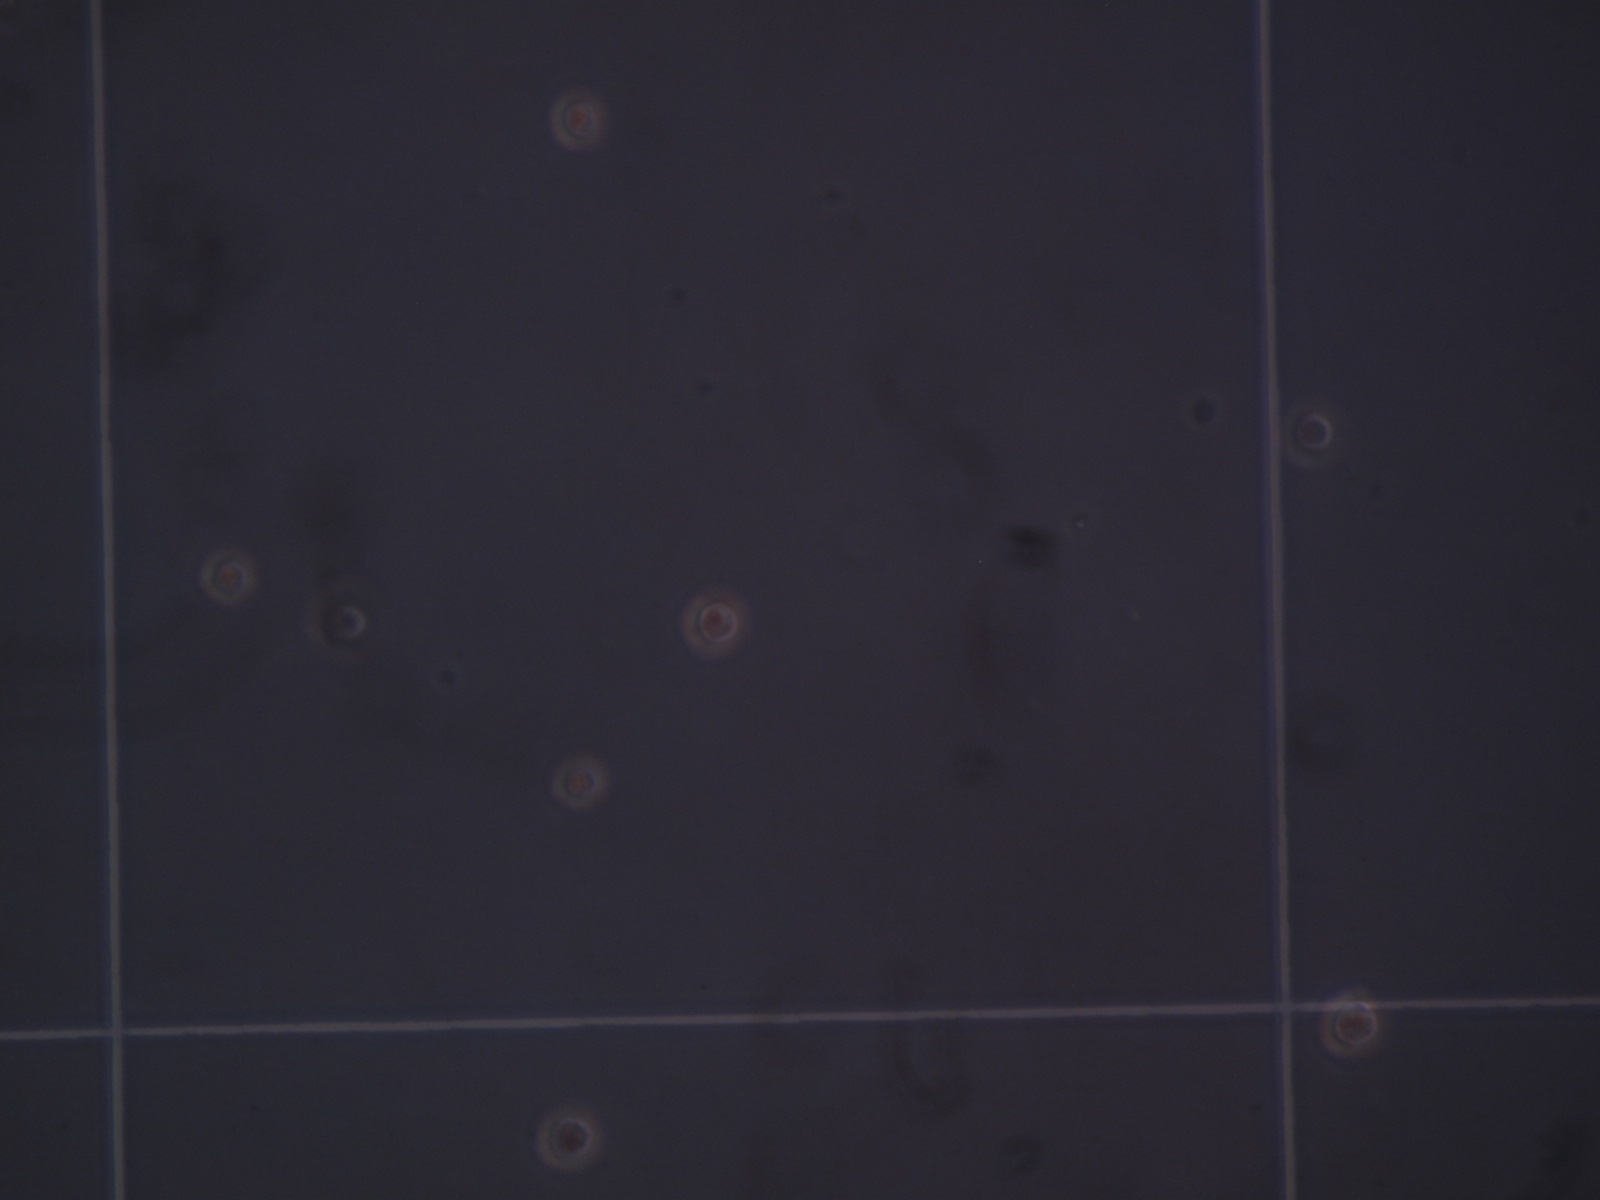hemo: (306, 587, 368, 663), (682, 590, 748, 658), (1320, 992, 1383, 1058), (535, 1108, 600, 1171), (1281, 403, 1333, 470), (549, 93, 603, 150), (200, 550, 254, 604), (551, 758, 605, 807)
